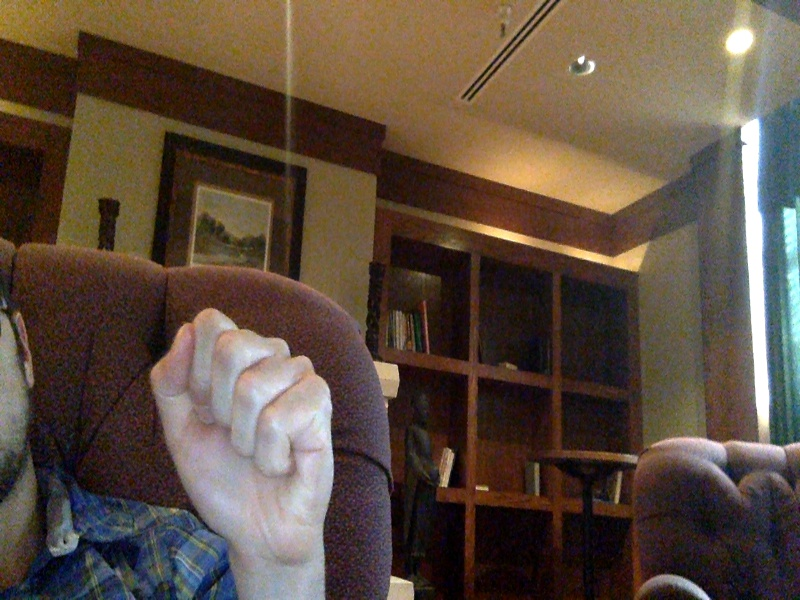0-hand: (147, 308, 337, 550)
